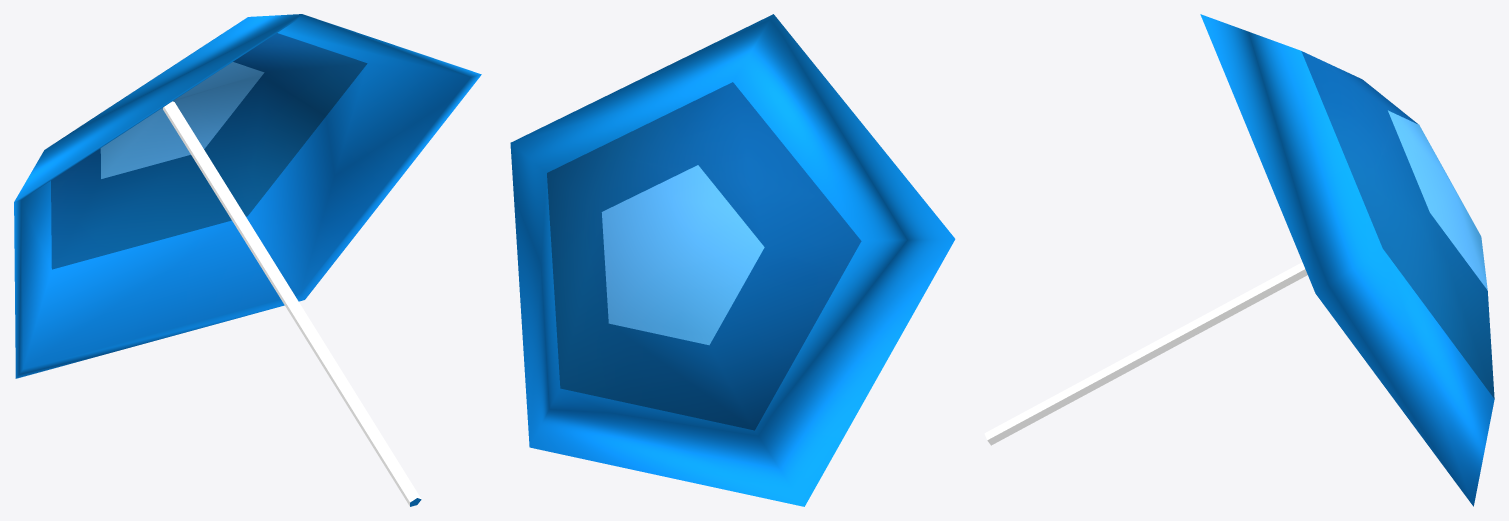
Rendered from BeachUmbrellaOnGroundBlue.glb.
The picture shows the model from 3 angles, left to right: view 1: azimuth 30°, elevation 25°; view 2: azimuth 150°, elevation 25°; view 3: azimuth 270°, elevation 25°; orthographic projection. The views are drawn at different scales.
Parts seen in each view (by area): view 1: BeachUmbrellaOnGroundBlue; view 2: BeachUmbrellaOnGroundBlue; view 3: BeachUmbrellaOnGroundBlue.
Boxes of the visible parts, x1,y1,x2,y2 form: BeachUmbrellaOnGroundBlue: [14, 14, 481, 506]; BeachUmbrellaOnGroundBlue: [510, 14, 955, 506]; BeachUmbrellaOnGroundBlue: [984, 14, 1494, 506].
Bounding box in the file's own units: 2.42 × 2.01 × 2.18.
Materials: 1 (1 with a texture image).
